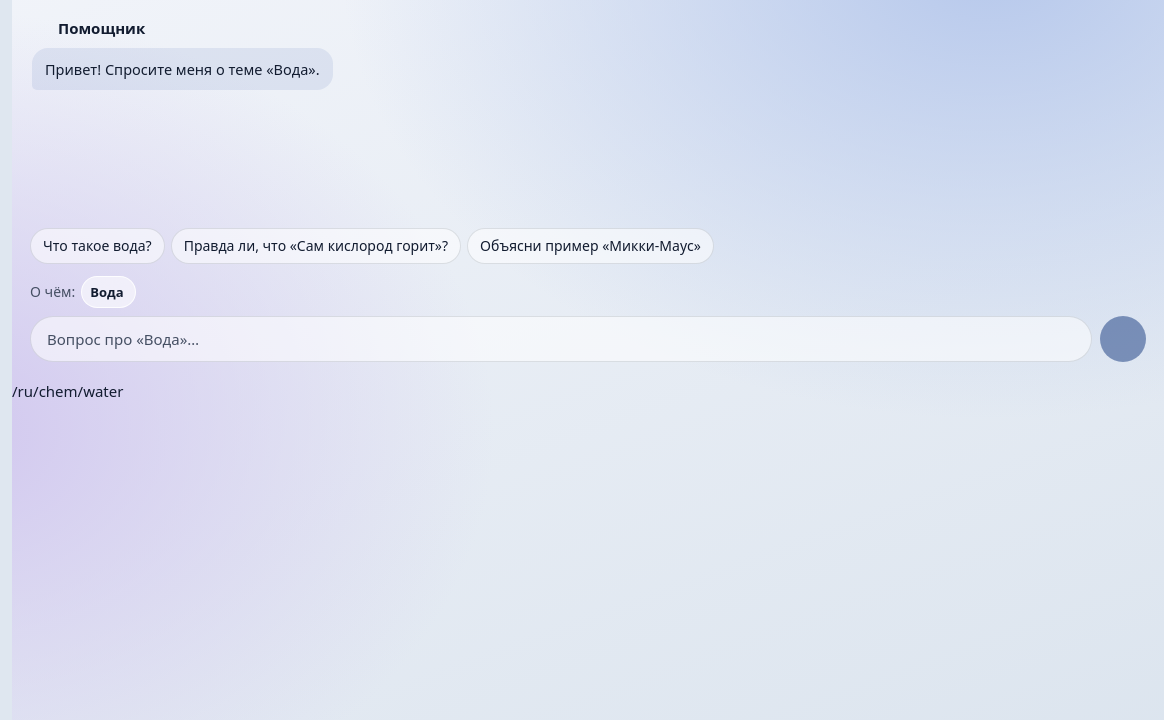
Test: AssistantPanel (W-32) › shows a localized «assistant unavailable» message on 503
Click the button "Что такое вода?" at {"x": 97, "y": 246}, box x1=30 y1=228 x2=165 y2=264
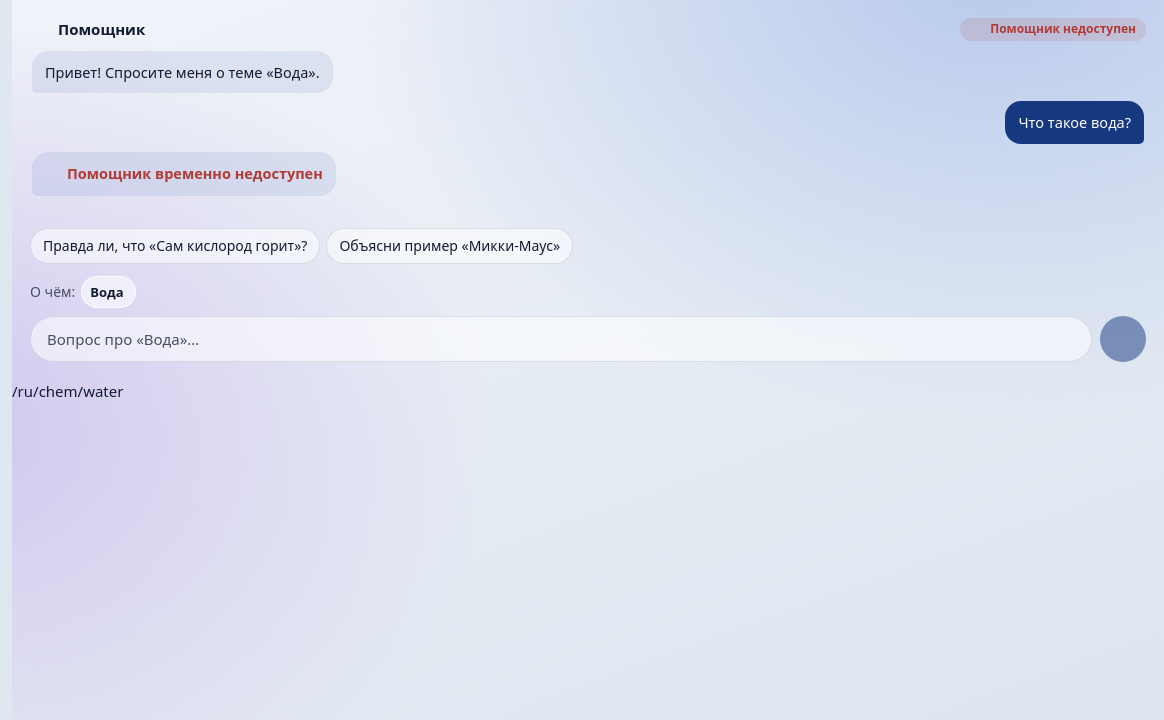
Check: the text "Помощник временно недоступен" is shown, box x1=45 y1=162 x2=323 y2=184
